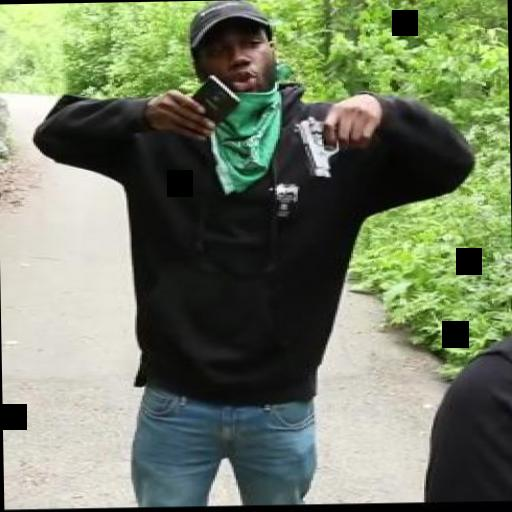Handgun: (292, 110, 375, 182)
